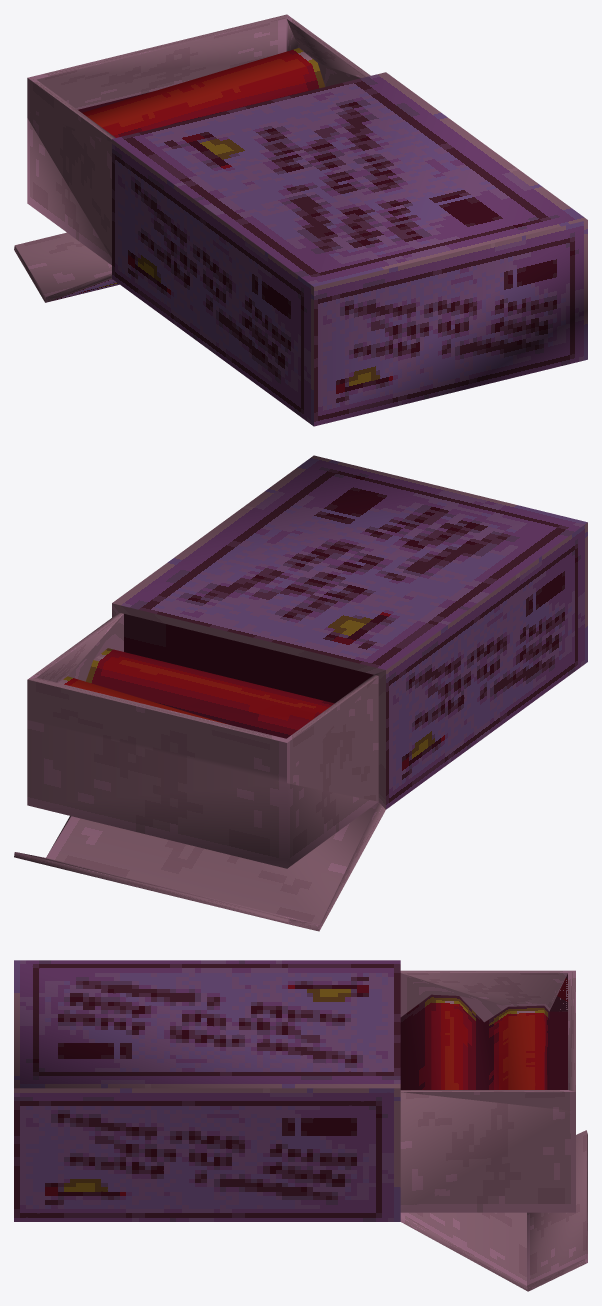
File: shotgunammo.glb
The picture shows the model from 3 angles, top to bottom: view 1: azimuth 30°, elevation 25°; view 2: azimuth 150°, elevation 25°; view 3: azimuth 270°, elevation 25°; orthographic projection. The views are drawn at different scales.
Parts seen in each view (by area): view 1: bullets; view 2: bullets; view 3: bullets.
Part boxes in pixels (left/top/right/bottom): bullets: left=14, top=14, right=587, bottom=426; bullets: left=14, top=455, right=587, bottom=931; bullets: left=14, top=960, right=587, bottom=1291.
Bounding box in the file's own units: 0.6161 × 0.4566 × 1.17.
1 material, 1 textured.
